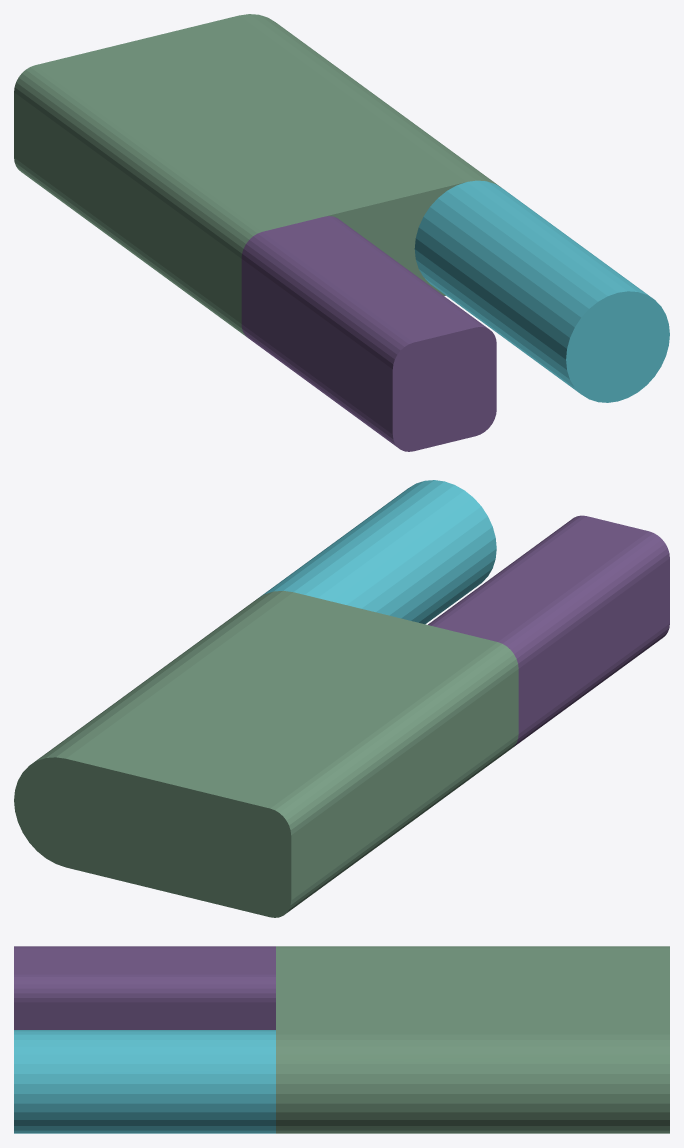
File: peg_41_body.obj
3 views of the same model, one above another, from view 1: azimuth 30°, elevation 25°; view 2: azimuth 150°, elevation 25°; view 3: azimuth 270°, elevation 25° (orthographic). The views are drawn at different scales.
Parts seen in each view (by area): view 1: geometry_0, geometry_1, geometry_2; view 2: geometry_0, geometry_1, geometry_2; view 3: geometry_0, geometry_2, geometry_1.
Boxes of the visible parts, <box> form: geometry_0: <box>14,14,501,336</box>; geometry_1: <box>241,216,496,451</box>; geometry_2: <box>414,180,669,402</box>; geometry_0: <box>14,590,518,917</box>; geometry_1: <box>428,515,669,747</box>; geometry_2: <box>259,480,496,624</box>; geometry_0: <box>276,946,669,1133</box>; geometry_2: <box>14,1030,275,1133</box>; geometry_1: <box>14,946,275,1029</box>.
Size of the model in its own units: 0.0528 by 0.0198 by 0.125.
